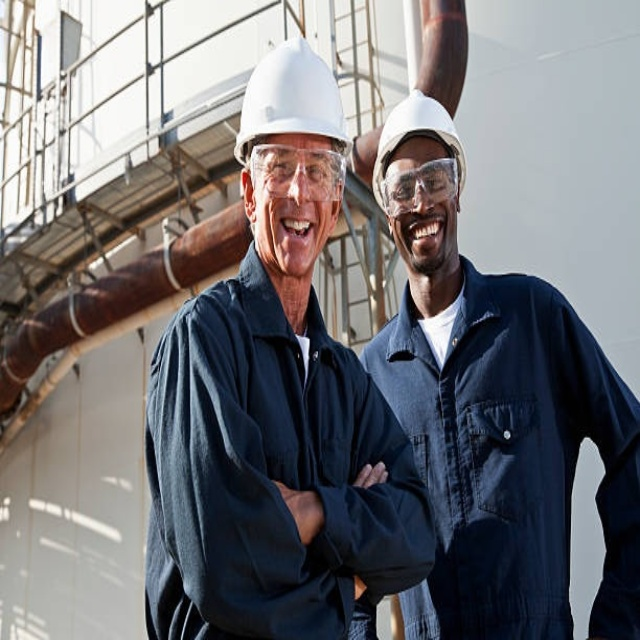Gafas: (249, 143, 348, 200), (378, 157, 459, 215)
Sin_mascara: (406, 216, 445, 246), (279, 216, 314, 241)
